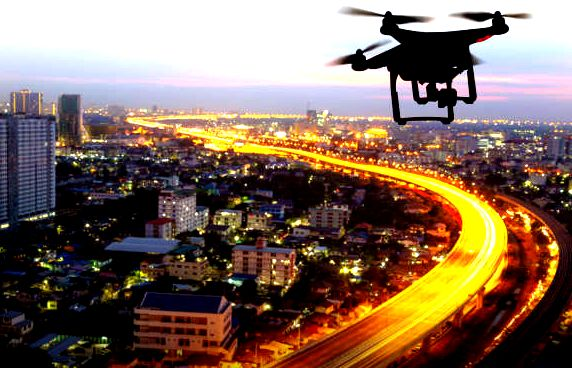Drone: (325, 4, 533, 129)
